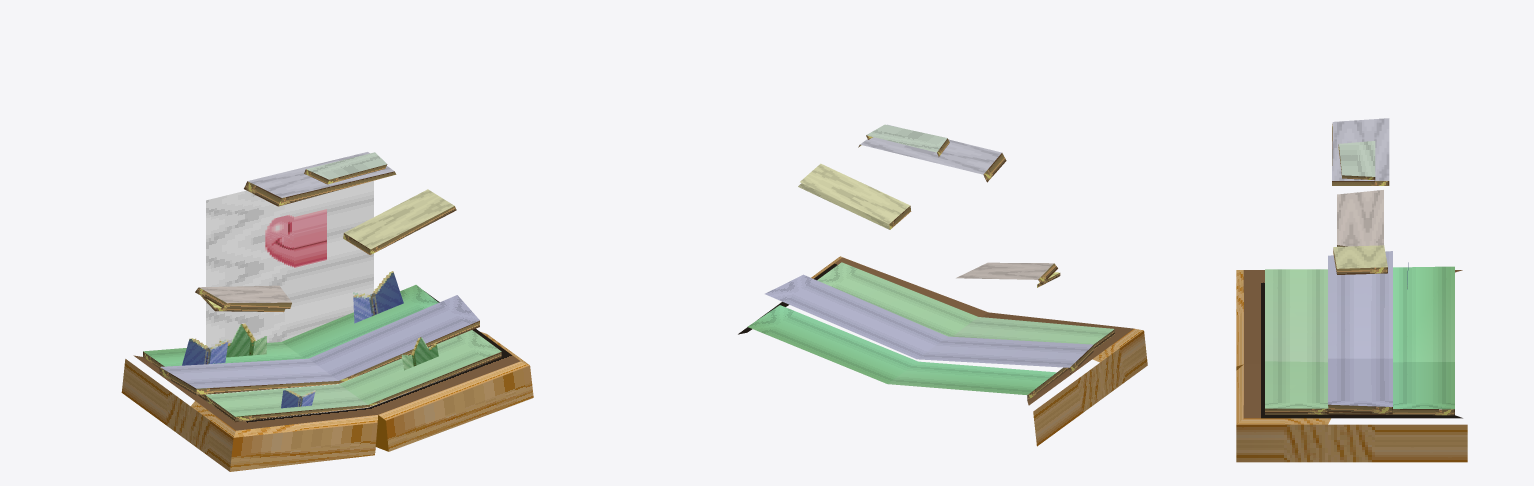
Rendered from Yoshi'sIsland.glb.
3 views of the same model, side by side, from view 1: azimuth 30°, elevation 25°; view 2: azimuth 150°, elevation 25°; view 3: azimuth 270°, elevation 25° (orthographic). The views are drawn at different scales.
Visible parts, largest first — view 1: Yoshi'sIsland_Alpha_3, Yoshi'sIsland_16, Yoshi'sIsland_19, Yoshi'sIsland_10, Yoshi'sIsland_Alpha_20, Yoshi'sIsland_21, Yoshi'sIsland_Alpha_4, Yoshi'sIsland_Alpha_5, Yoshi'sIsland_Alpha_6, Yoshi'sIsland_17; view 2: Yoshi'sIsland_19, Yoshi'sIsland_Alpha_3, Yoshi'sIsland_Alpha_20, Yoshi'sIsland_16, Yoshi'sIsland_21, Yoshi'sIsland_17, Yoshi'sIsland_10; view 3: Yoshi'sIsland_19, Yoshi'sIsland_16, Yoshi'sIsland_Alpha_3, Yoshi'sIsland_Alpha_20, Yoshi'sIsland_21, Yoshi'sIsland_10, Yoshi'sIsland_17, Yoshi'sIsland_Alpha_2, Yoshi'sIsland_11.
Part boxes in pixels (x1,y1,x2,y2): Yoshi'sIsland_Alpha_3: (143, 180, 438, 366); Yoshi'sIsland_16: (121, 331, 533, 471); Yoshi'sIsland_19: (160, 295, 501, 416); Yoshi'sIsland_10: (143, 164, 501, 422); Yoshi'sIsland_Alpha_20: (199, 152, 454, 303); Yoshi'sIsland_21: (195, 331, 519, 430); Yoshi'sIsland_Alpha_4: (265, 209, 326, 267); Yoshi'sIsland_Alpha_5: (182, 271, 403, 408); Yoshi'sIsland_Alpha_6: (219, 323, 438, 370); Yoshi'sIsland_17: (207, 152, 386, 307); Yoshi'sIsland_19: (765, 262, 1114, 367); Yoshi'sIsland_Alpha_3: (747, 305, 1056, 394); Yoshi'sIsland_Alpha_20: (800, 124, 1053, 279); Yoshi'sIsland_16: (811, 256, 1147, 446); Yoshi'sIsland_21: (814, 257, 1133, 359); Yoshi'sIsland_17: (866, 124, 1059, 283); Yoshi'sIsland_10: (889, 206, 1114, 400); Yoshi'sIsland_19: (1265, 251, 1392, 408); Yoshi'sIsland_16: (1236, 270, 1467, 462); Yoshi'sIsland_Alpha_3: (1393, 266, 1454, 409); Yoshi'sIsland_Alpha_20: (1332, 118, 1389, 268); Yoshi'sIsland_21: (1243, 270, 1330, 418); Yoshi'sIsland_10: (1265, 124, 1454, 415); Yoshi'sIsland_17: (1339, 141, 1375, 176); Yoshi'sIsland_Alpha_2: (1329, 270, 1462, 418); Yoshi'sIsland_11: (1332, 175, 1389, 185).
Size of the model in its own units: 1003 by 522 by 400.
23 materials, 23 textured.
